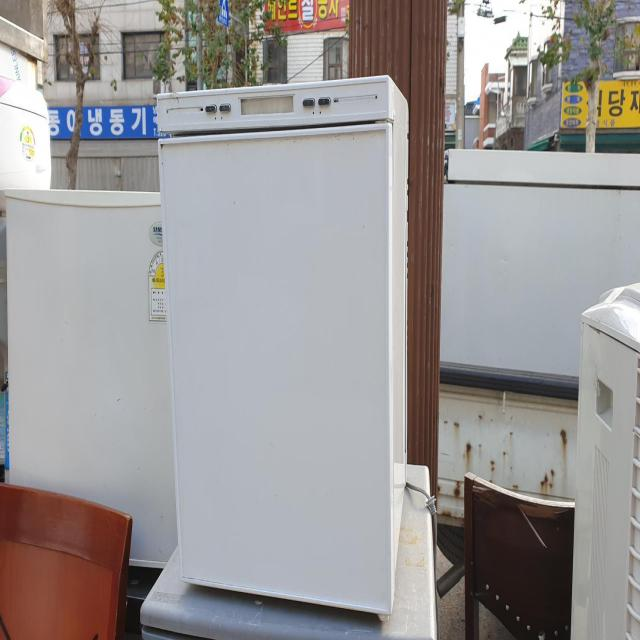refrigerator: (150, 66, 416, 624)
